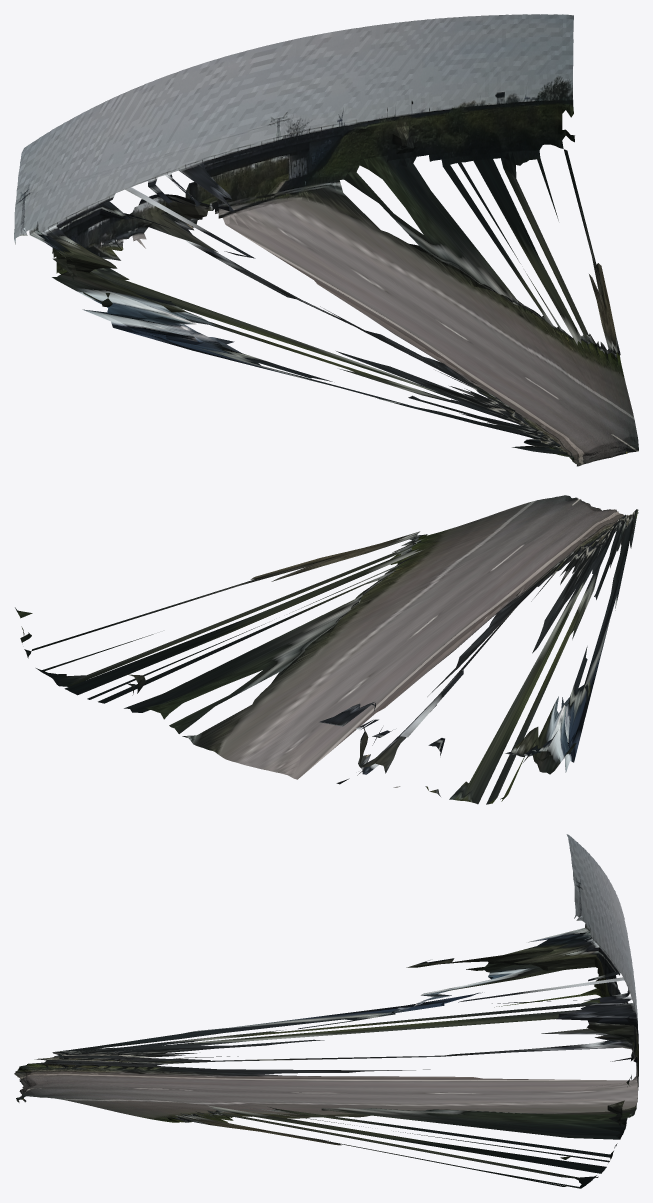
The picture shows the model from 3 angles, top to bottom: view 1: azimuth 30°, elevation 25°; view 2: azimuth 150°, elevation 25°; view 3: azimuth 270°, elevation 25°; orthographic projection. The views are drawn at different scales.
Visible parts, largest first — view 1: defaultobject; view 2: defaultobject; view 3: defaultobject.
Boxes of the visible parts, x1,y1,x2,y2 form: defaultobject: [14, 14, 638, 466]; defaultobject: [15, 495, 638, 804]; defaultobject: [14, 834, 638, 1188].
Size of the model in its own units: 41.08 by 12.07 by 44.72.
1 material, 1 textured.
